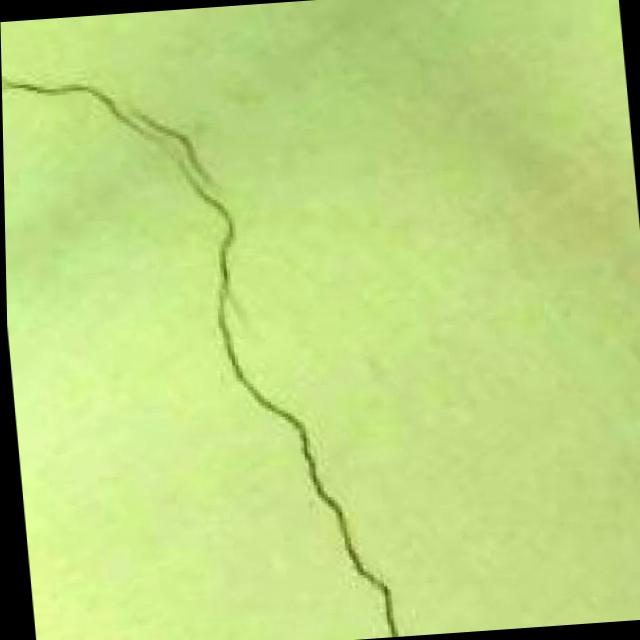Crack: (0, 27, 425, 640)
